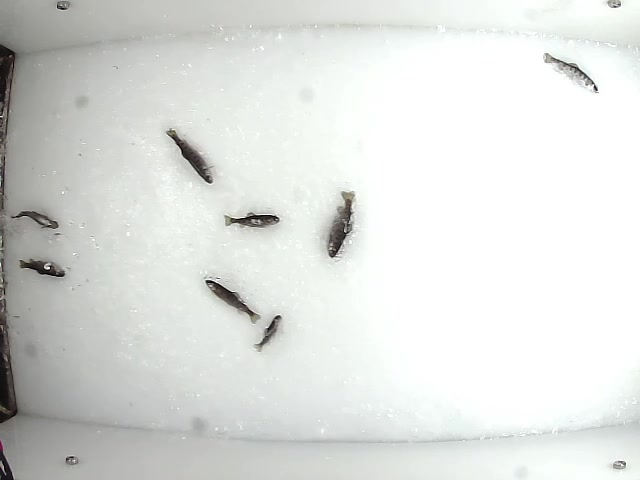fish: (164, 127, 214, 187), (542, 50, 601, 95), (204, 277, 261, 323), (324, 188, 357, 260), (17, 255, 66, 281), (252, 312, 281, 352), (9, 209, 61, 230), (222, 210, 281, 228)
